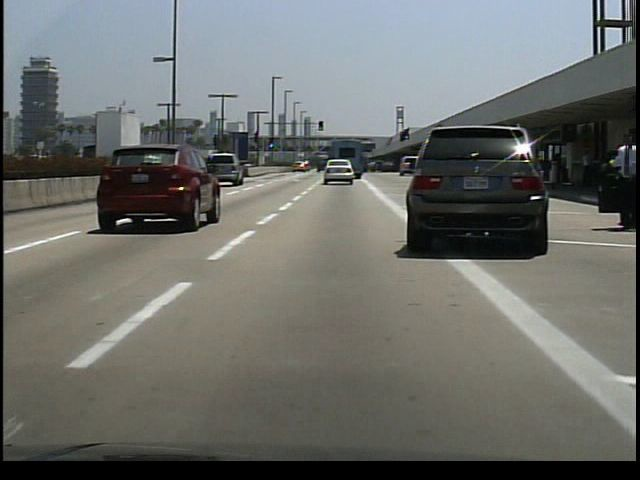person: (595, 129, 638, 229)
